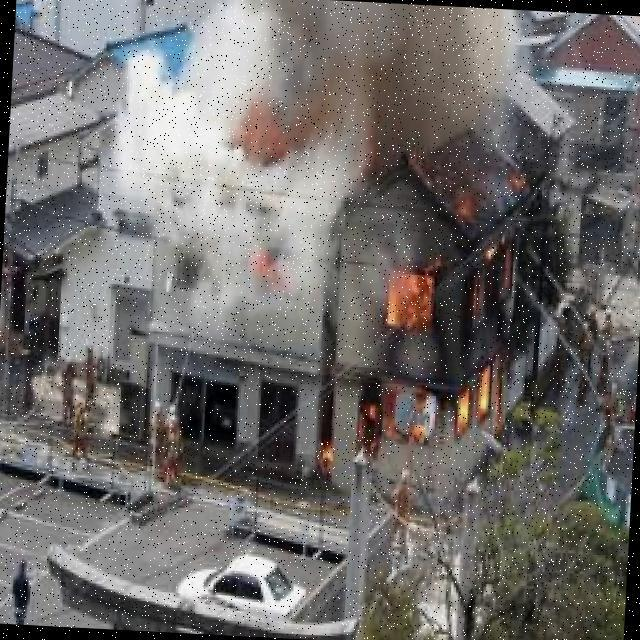Fire: (314, 160, 549, 498)
